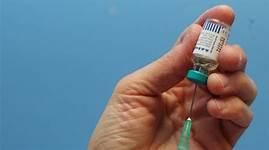Syringe: (187, 13, 230, 90)
